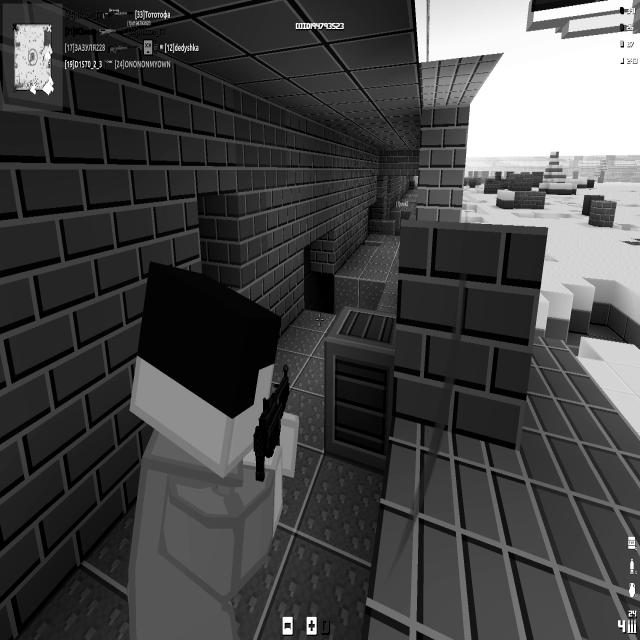Head: (134, 260, 281, 470)
Player: (126, 259, 297, 638)
